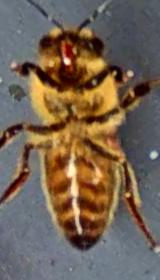varroa_mite: (98, 125, 128, 152)
